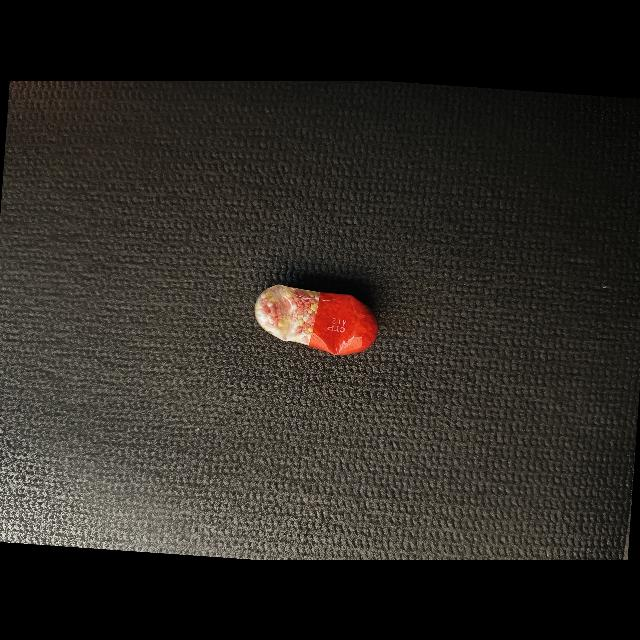Defective Capsule: (254, 284, 379, 355)
